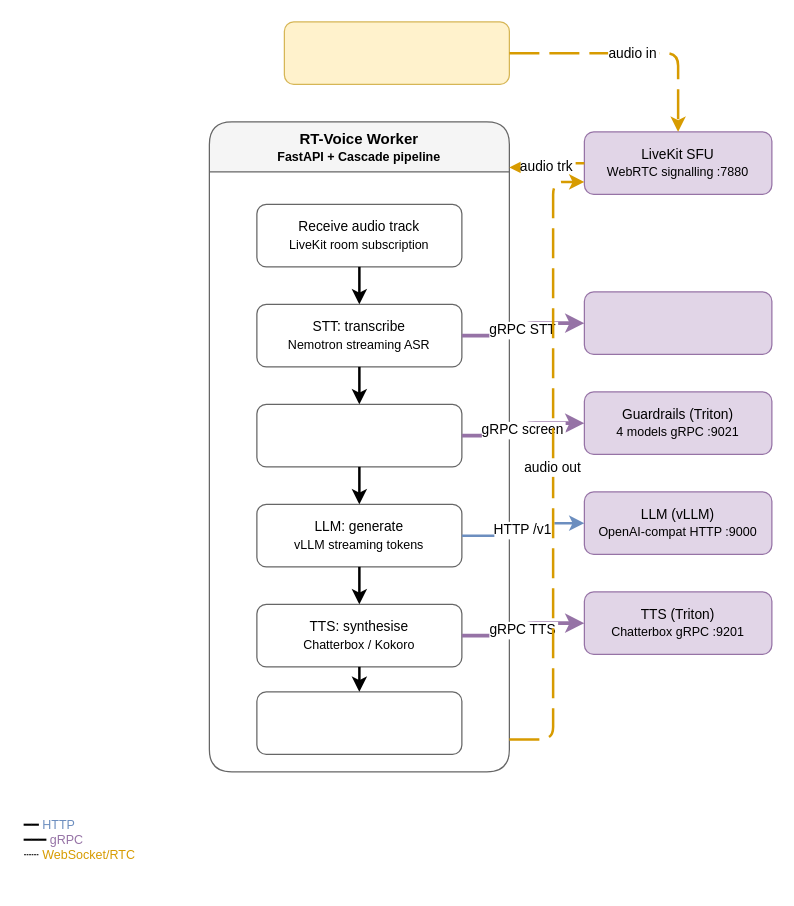
This 794x906 diagram has some shape labels left out. Here are the shapes that lost their labels. From the top down, the centre of each, then its label:
[396,52]: Browser LiveKit SDK + WebRTC
[677,322]: STT (Triton) Nemotron-4B gRPC :9101
[359,435]: Guardrails: screen PII / inject / topic
[359,722]: Publish audio track LiveKit room publish
